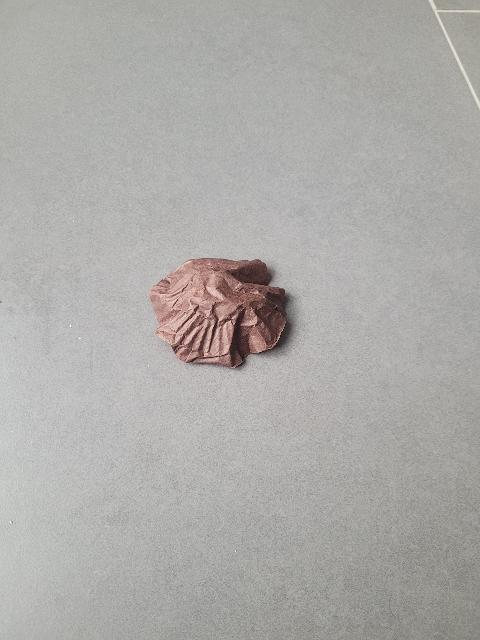Plastik: (130, 252, 293, 383)
